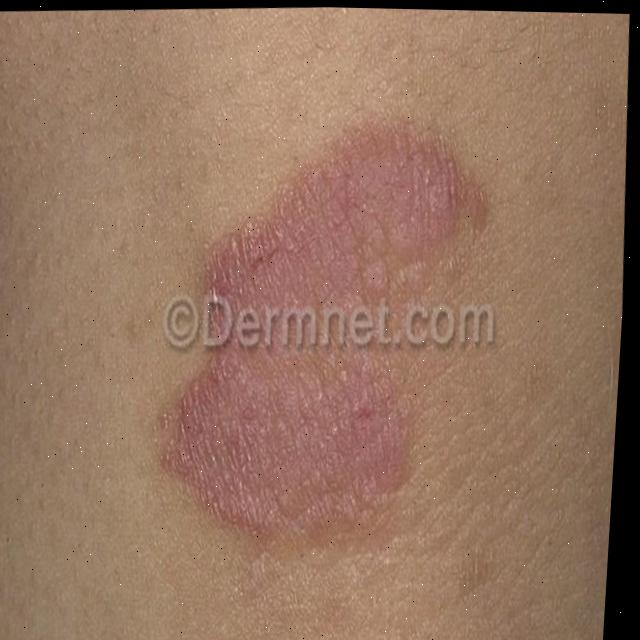Eczema: (163, 153, 475, 545)
